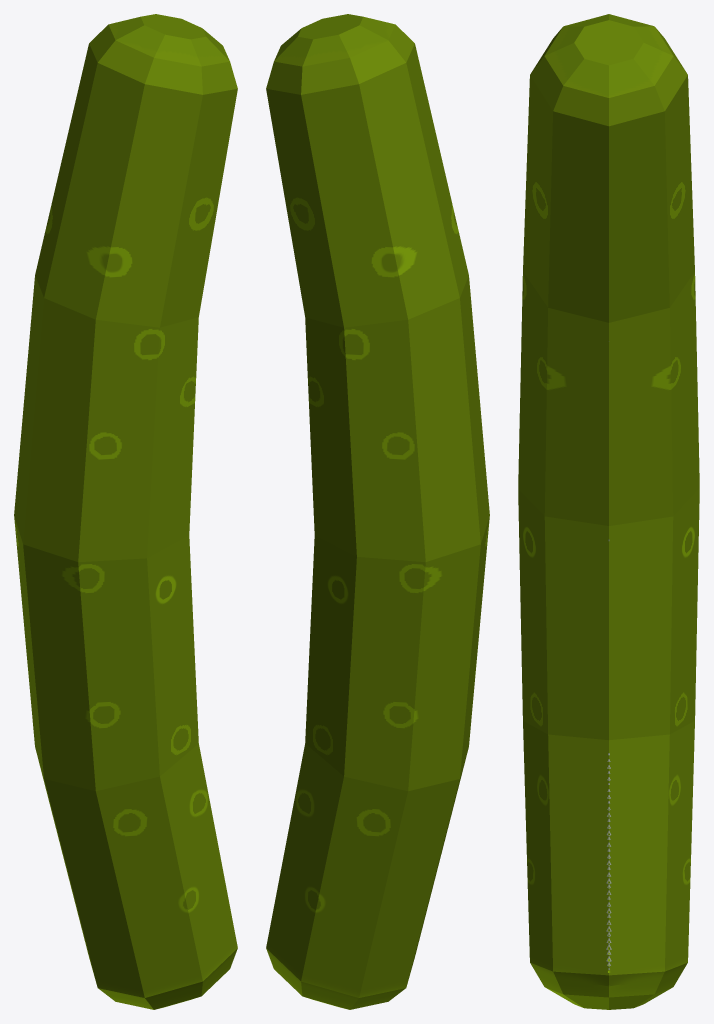
File: Pickles.fbx
The picture shows the model from 3 angles, left to right: view 1: azimuth 30°, elevation 25°; view 2: azimuth 150°, elevation 25°; view 3: azimuth 270°, elevation 25°; orthographic projection.
Parts seen in each view (by area): view 1: Pickles; view 2: Pickles; view 3: Pickles.
Boxes of the visible parts, x1,y1,x2,y2 form: Pickles: (14,14,237,1009); Pickles: (266,14,489,1009); Pickles: (518,14,699,1009).
Size of the model in its own units: 63.18 by 286 by 48.15.
1 material, 1 textured.
